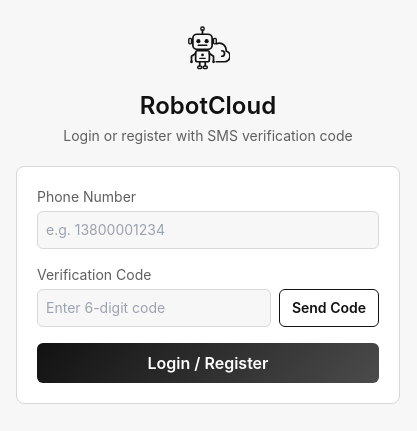
it: /login page › shows error for invalid phone number
Type "invalid" into the field with placeholder "e.g. 13800001234" at x=208, y=230, box [37, 211, 379, 249]
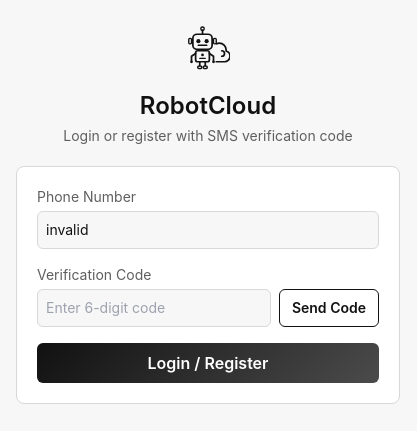
Click the button "Send Code" at x=329, y=308, box [279, 289, 379, 327]
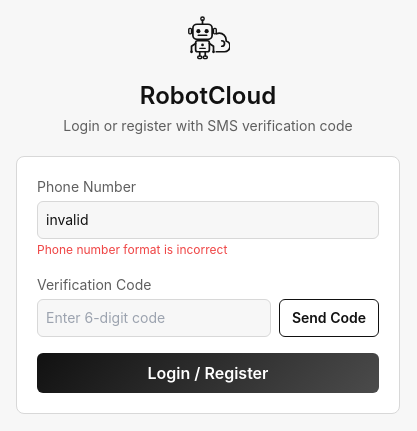
Expected: the text "Phone number format is incorrect" is shown, [37, 242, 227, 257]
